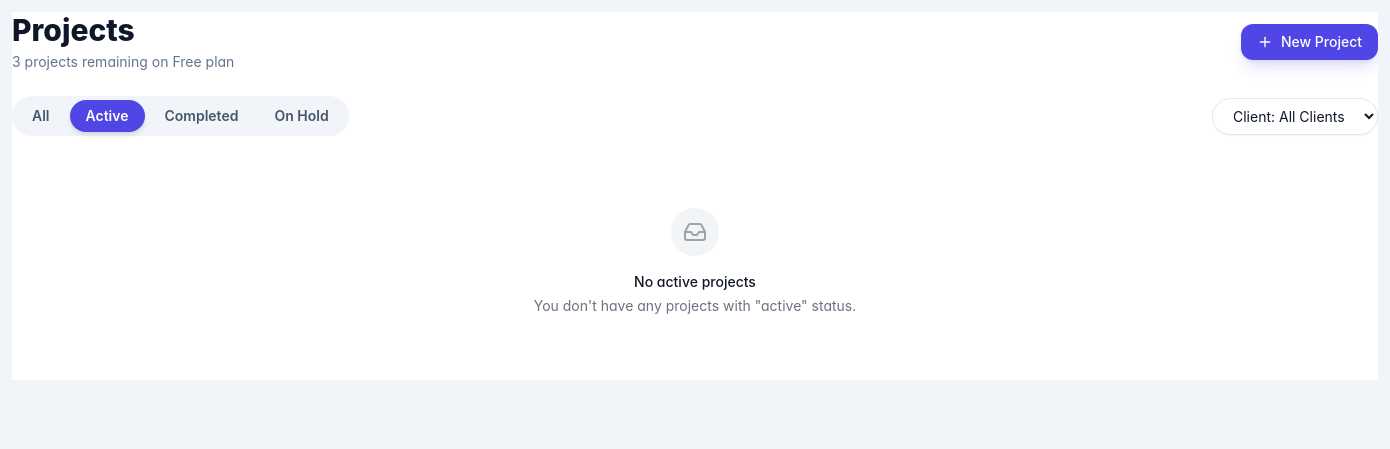
Test: ProjectsPage › Empty State › should show empty state for all projects when clicking All tab
The image size is (1390, 449).
// Click "All" tab
Click the button "All".
click(41, 116)  # box [16,100,66,132]
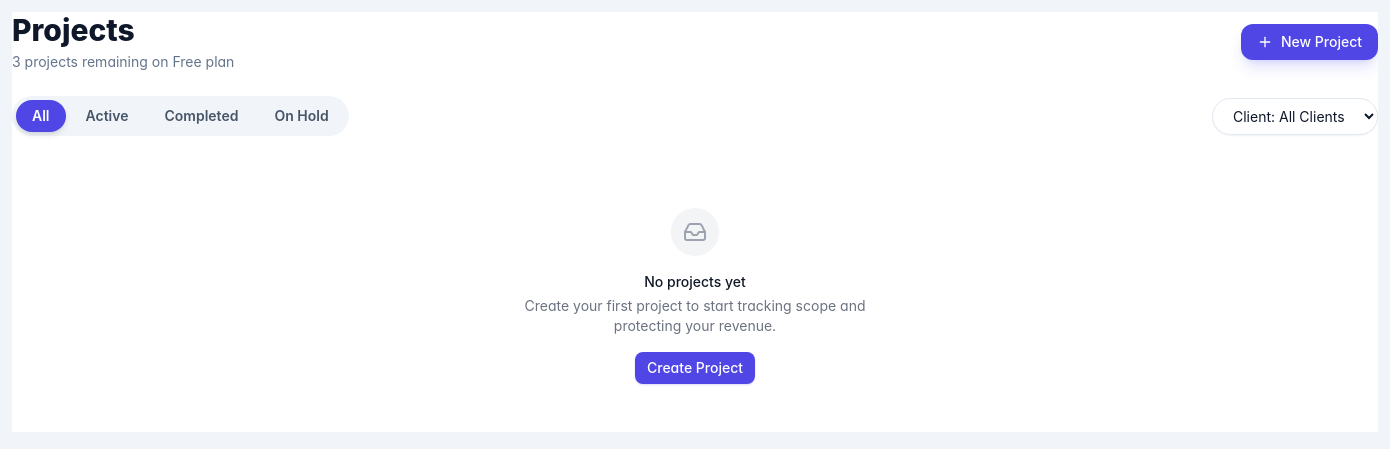
Check: the heading "No projects yet" is shown, box [644,272,746,292]
